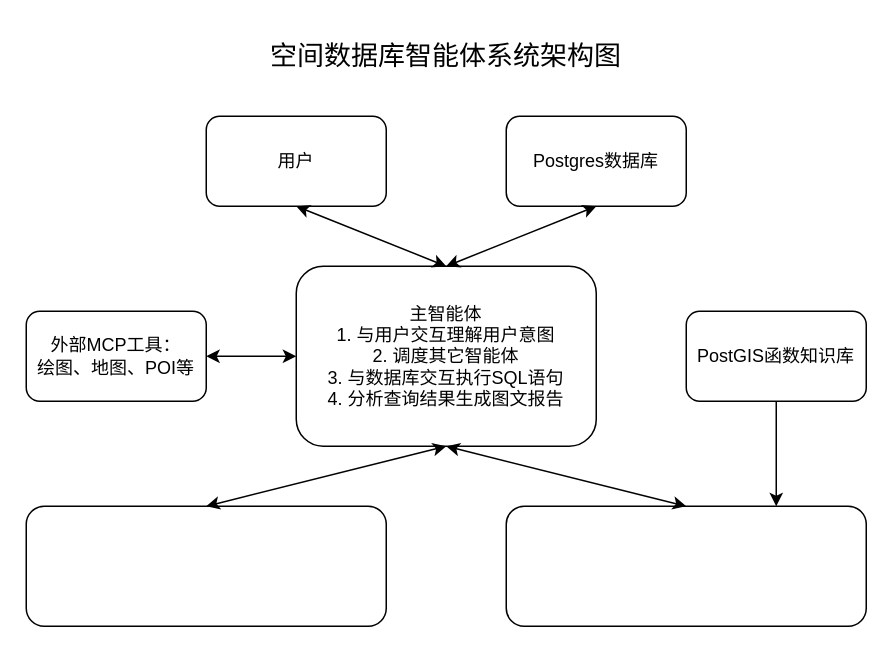
Image size: 893x653. Some labels were removed from this diagram. Here are the shapes that lost their labels. From the top down, the centre of each, then its label:
At pixel 205 565: "从智能体1 1. 理解数据库结构 2. 维护数据库的表与字段的含义 3. 根据用户意图生成裁剪后的数据库模式表 4. 将裁剪后的模式表返回给主智能体".
At pixel 685 565: "从智能体2 1. 根据裁剪后的模式表理解一部分数据库 2. RAG检索PostGIS函数用法 3. 生成SQL语句并审查 4. 将SQL语句返回主智能体".
